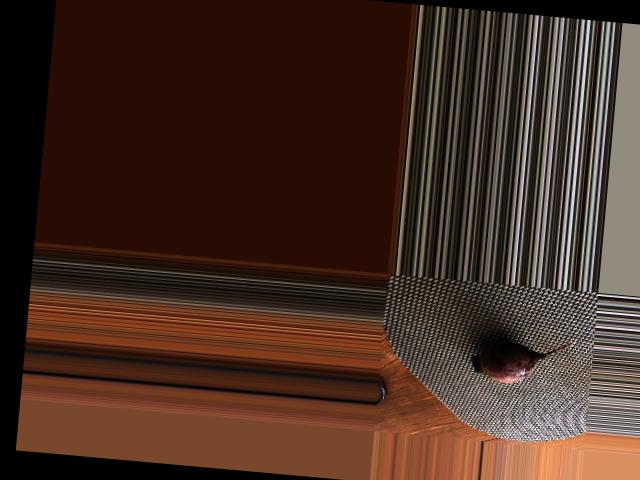beet: (469, 328, 576, 388)
